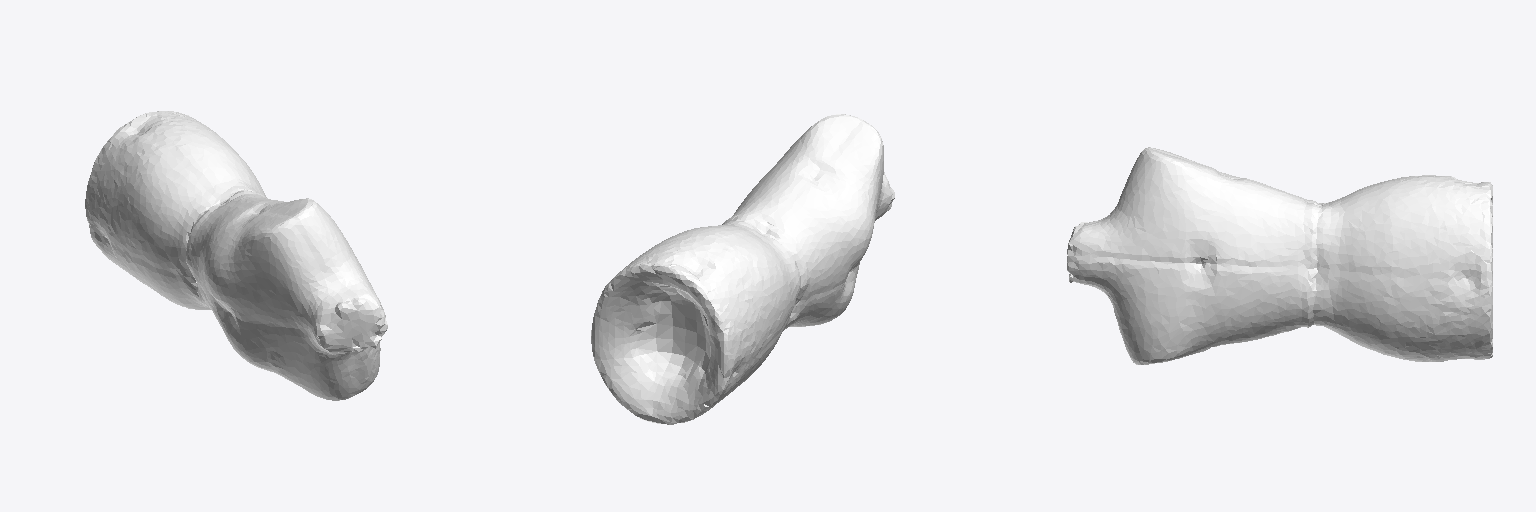
File: mannequin3.obj
3 renders of one model, left to right at view 1: azimuth 30°, elevation 25°; view 2: azimuth 150°, elevation 25°; view 3: azimuth 270°, elevation 25°, orthographic.
Bounding box in the file's own units: 0.2903 × 0.3736 × 0.7395.